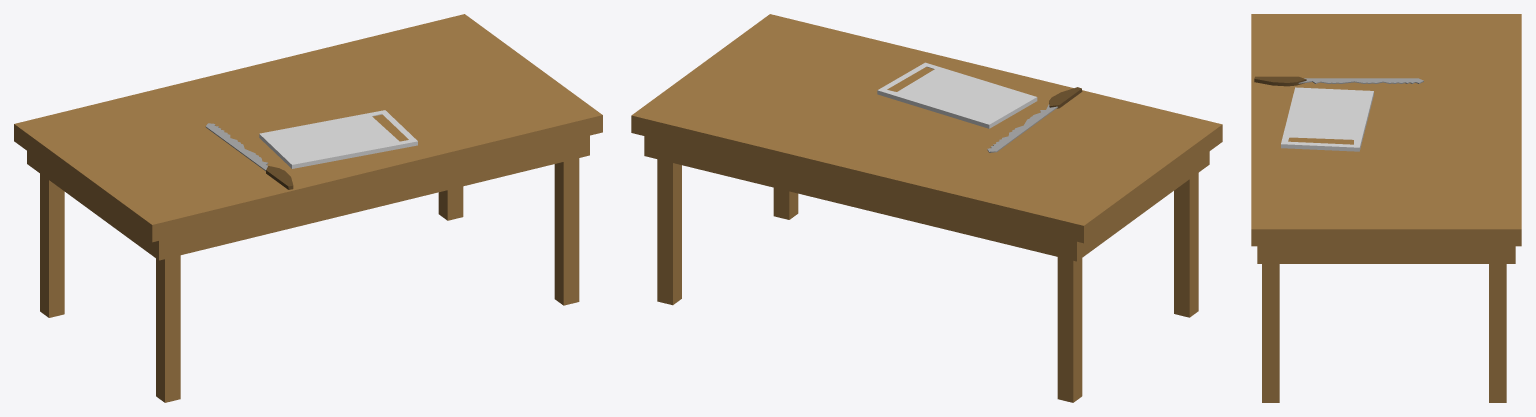
Rendered from tablepain.fbx.
3 views of the same model, side by side, from view 1: azimuth 30°, elevation 25°; view 2: azimuth 150°, elevation 25°; view 3: azimuth 270°, elevation 25° (orthographic). The views are drawn at different scales.
Parts seen in each view (by area): view 1: pCube1, pCube6, pCube5, pCube2, pCube3, pCube4; view 2: pCube1, pCube6, pCube3, pCube4, pCube2, pCube5; view 3: pCube1, pCube6, pCube4, pCube5, pCube8, pCube7, pCube9.
Boxes of the visible parts, x1,y1,x2,y2 form: pCube1: (14, 14, 602, 260); pCube6: (259, 110, 417, 168); pCube5: (554, 158, 579, 305); pCube2: (156, 255, 180, 402); pCube3: (40, 173, 64, 317); pCube4: (438, 186, 463, 220); pCube1: (631, 14, 1222, 261); pCube6: (877, 62, 1037, 128); pCube3: (1057, 257, 1082, 402); pCube4: (657, 159, 681, 305); pCube2: (1174, 173, 1198, 317); pCube5: (773, 187, 798, 219); pCube1: (1251, 14, 1521, 263); pCube6: (1281, 87, 1373, 151); pCube4: (1489, 264, 1506, 402); pCube5: (1262, 264, 1279, 402); pCube8: (1254, 76, 1306, 86); pCube7: (1303, 78, 1412, 83); pCube9: (1310, 78, 1423, 83).
Bounding box in the file's own units: 77.93 × 31.49 × 41.36.
